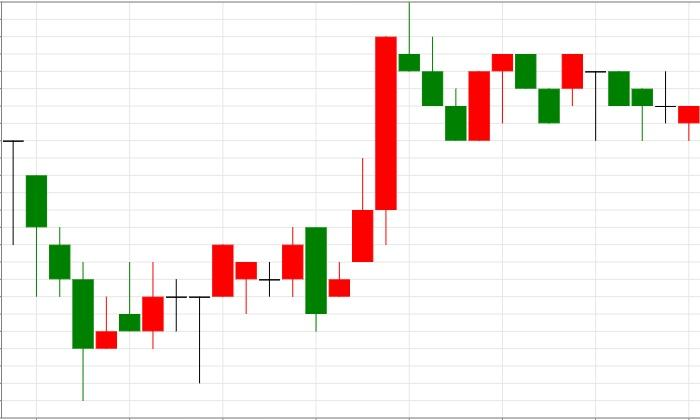bullish_engulfing_rise: (398, 2, 491, 141)
